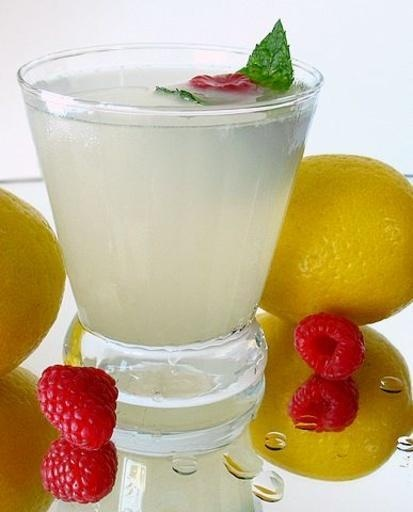background: (0, 14, 267, 305), (23, 70, 76, 360)
